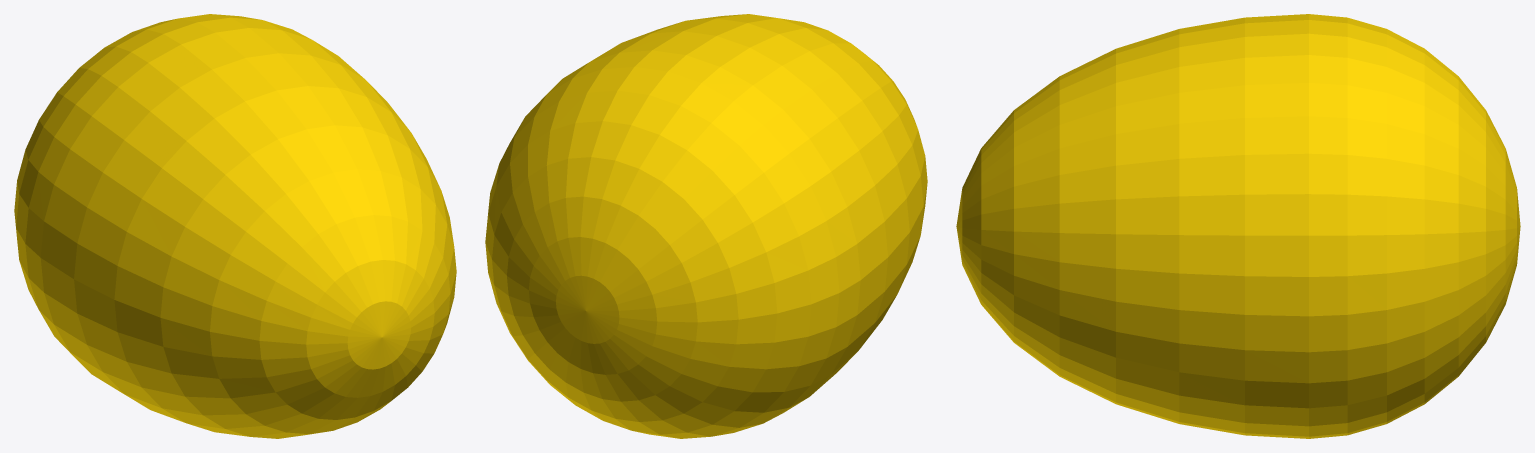
Rendered from tinker.obj.
3 views of the same model, side by side, from view 1: azimuth 30°, elevation 25°; view 2: azimuth 150°, elevation 25°; view 3: azimuth 270°, elevation 25° (orthographic). The views are drawn at different scales.
Visible parts, largest first — view 1: obj_0; view 2: obj_0; view 3: obj_0.
Part boxes in pixels (left/top/right/bottom): obj_0: left=14, top=14, right=456, bottom=438; obj_0: left=485, top=14, right=927, bottom=438; obj_0: left=956, top=14, right=1520, bottom=438.
Bounding box in the file's own units: 46 × 46 × 61.
